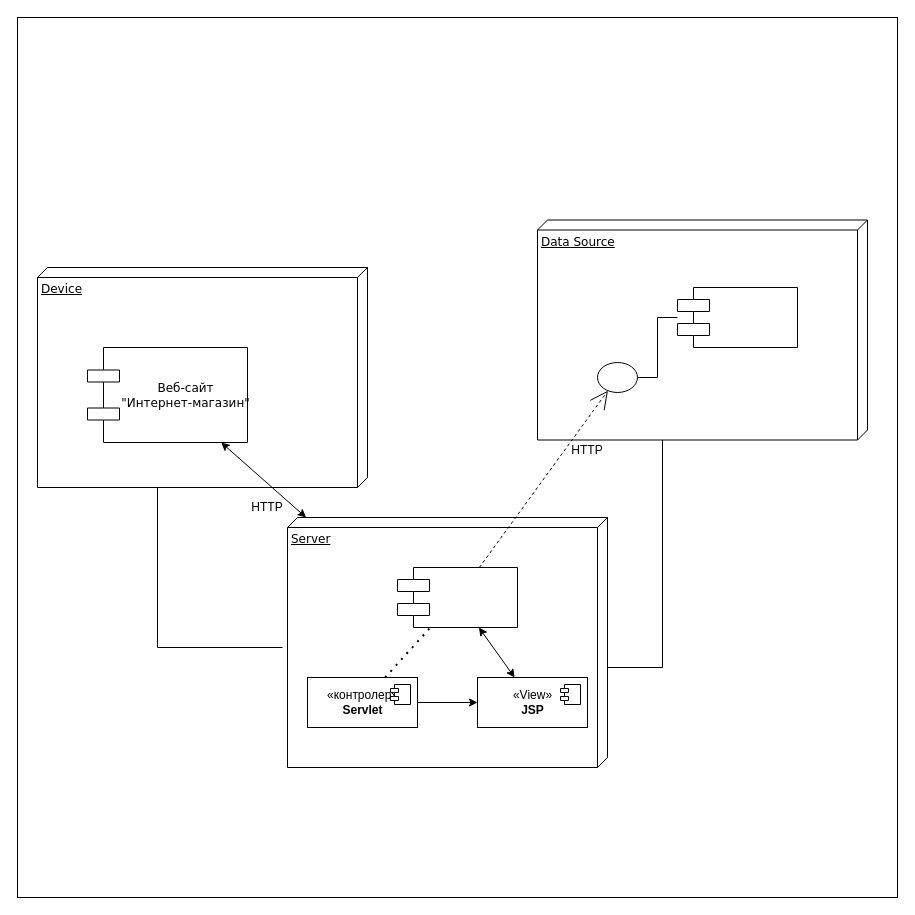
Image size: 915x915. Some labels were removed from this diagram. The shapes that lost their labels are listed below. From the top down, each one's centre as x and y in pixels, then its label:
pixel 737 317: база данных
pixel 617 377: JDBC
pixel 457 597: JavaBeans (model)
